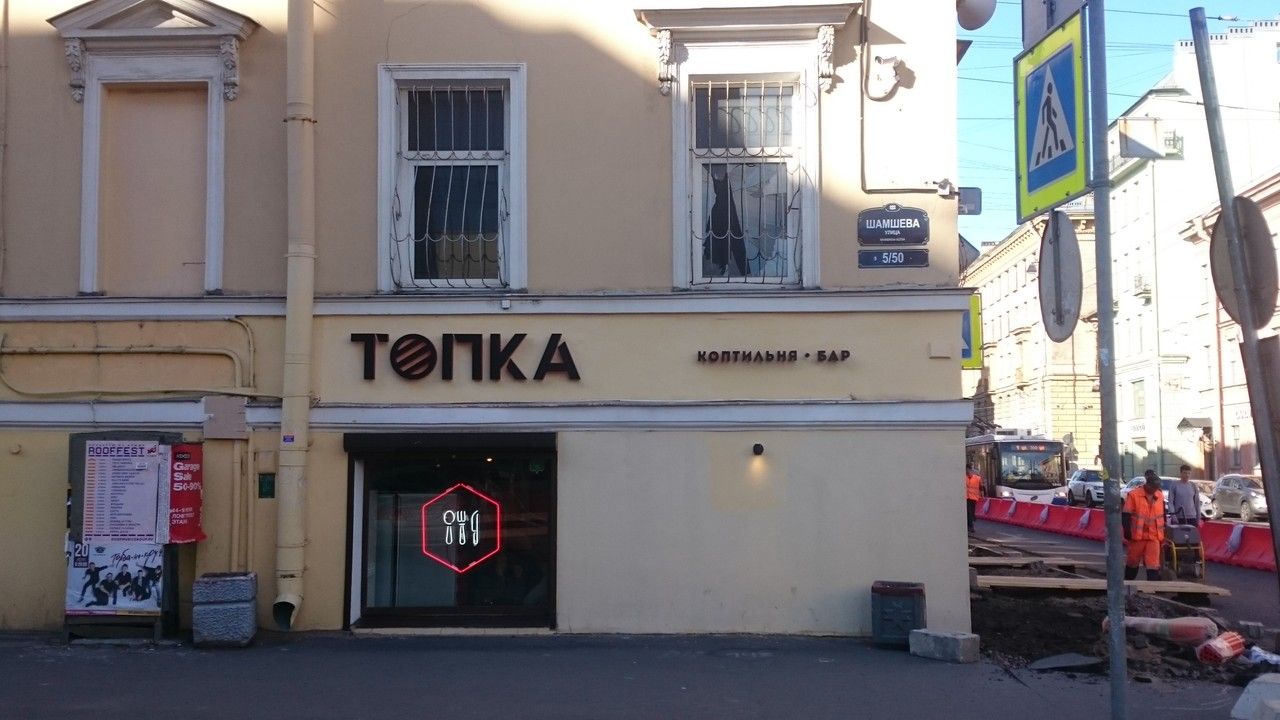signboard: (349, 330, 581, 381), (698, 348, 853, 365)
window: (363, 446, 552, 612), (402, 82, 509, 291), (691, 83, 802, 280)
